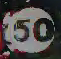Speed limit: (2, 4, 60, 52)
